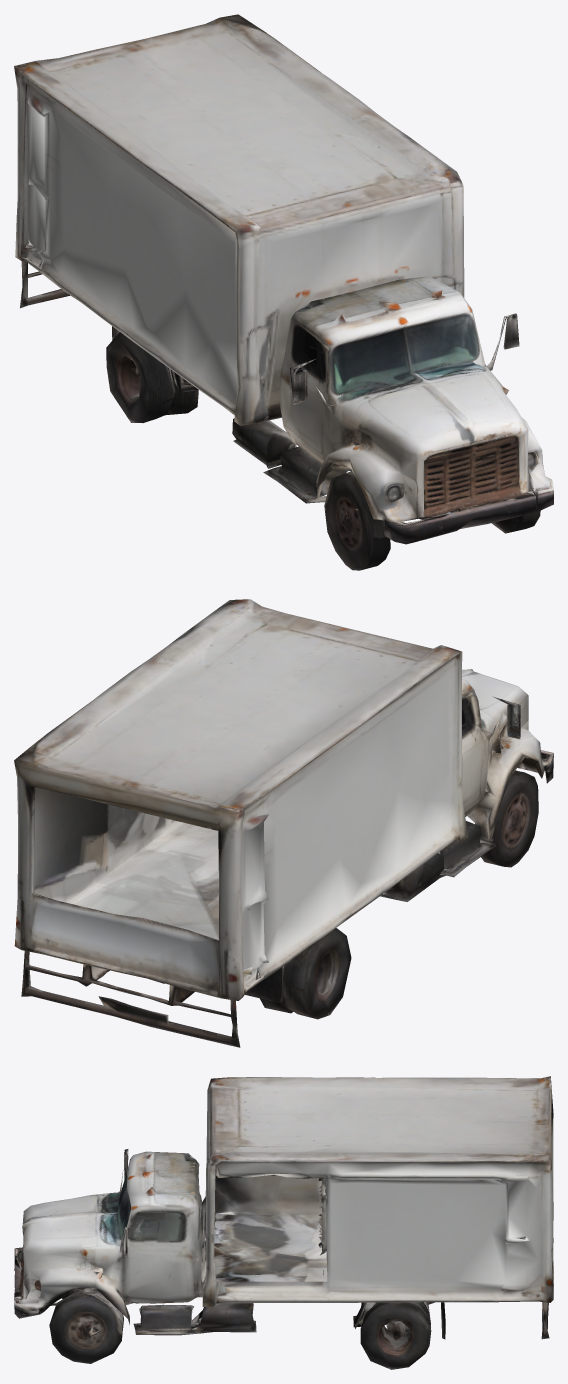
The model's file is rusty_white_box_truck_0516071047_texture.fbx.
3 views of the same model, one above another, from view 1: azimuth 30°, elevation 25°; view 2: azimuth 150°, elevation 25°; view 3: azimuth 270°, elevation 25° (orthographic). The views are drawn at different scales.
Visible parts, largest first — view 1: Mesh_0; view 2: Mesh_0; view 3: Mesh_0.
Part boxes in pixels (x1,y1,x2,y2): Mesh_0: (14,14,553,570); Mesh_0: (14,599,553,1047); Mesh_0: (14,1076,553,1369).
Size of the model in its own units: 74.18 by 87.43 by 198.
Materials: 1 (1 with a texture image).
